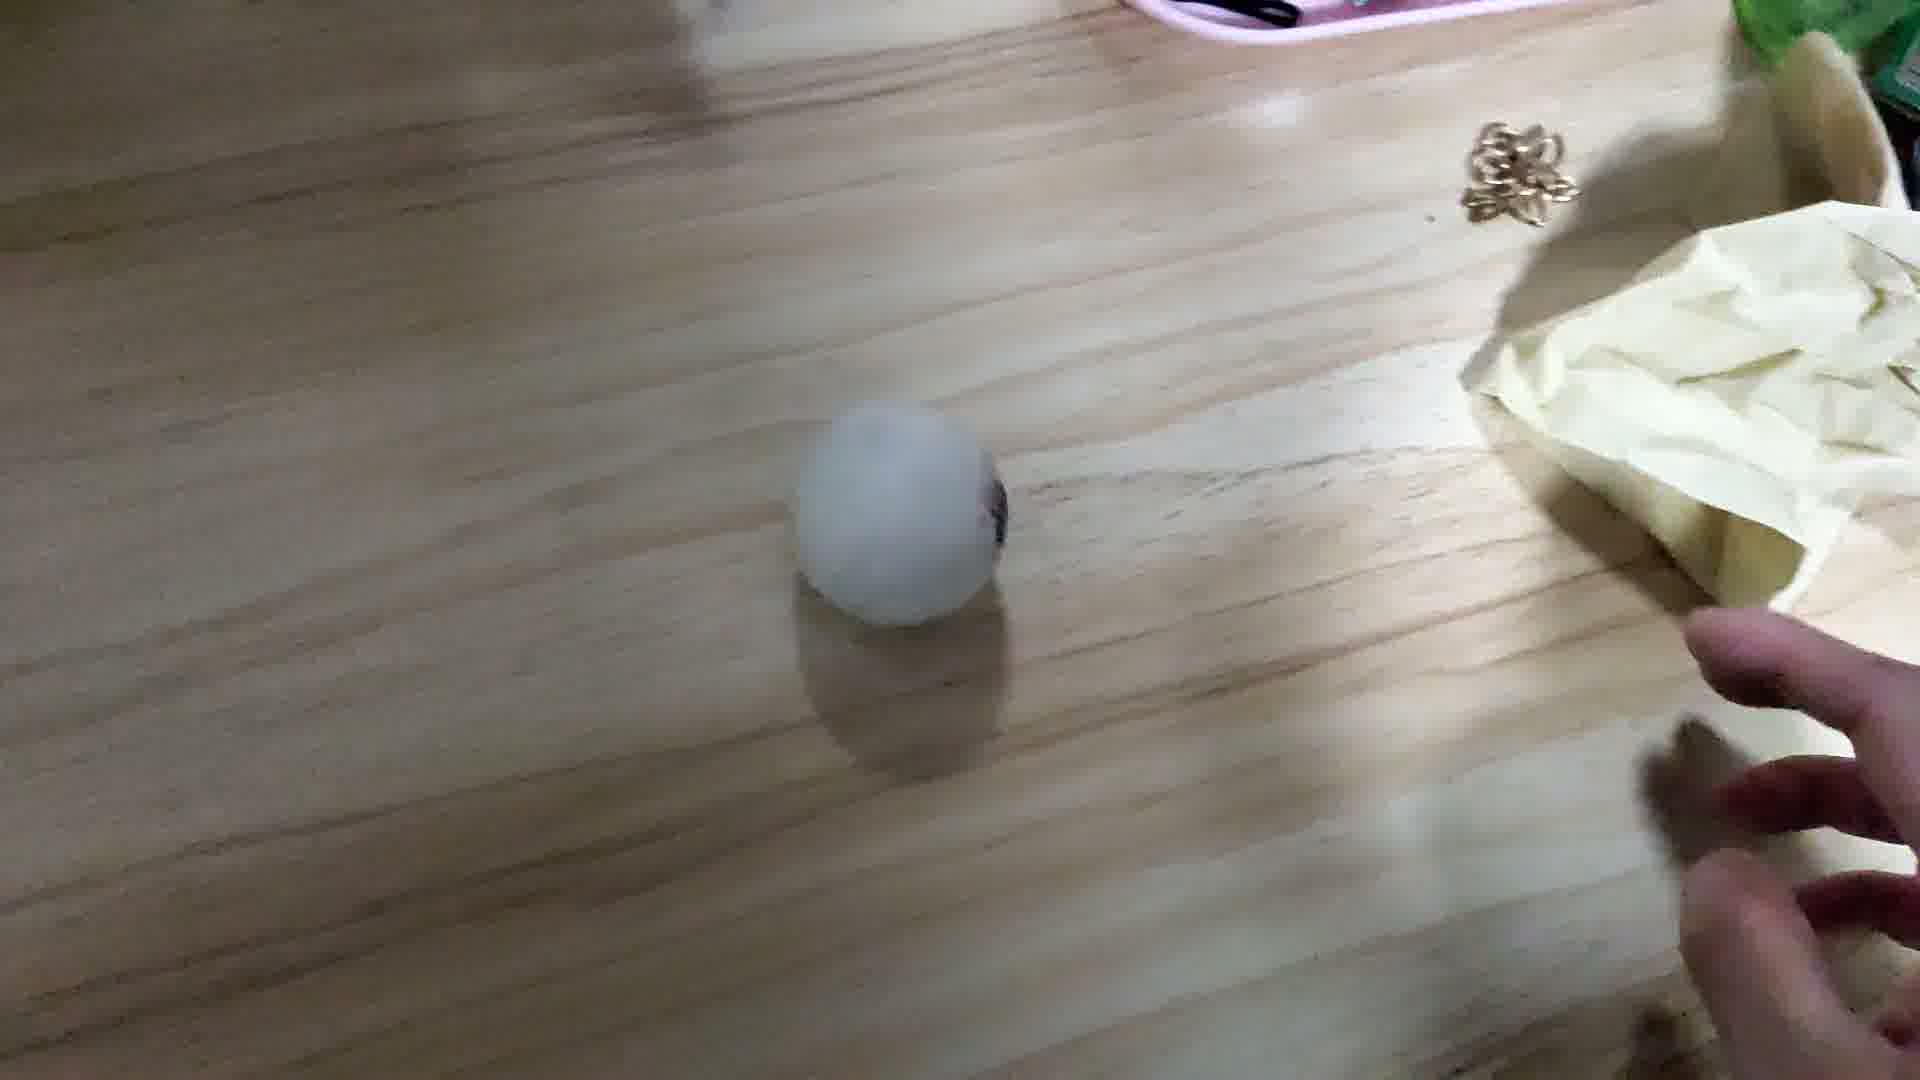Ball: (796, 400, 1011, 629)
